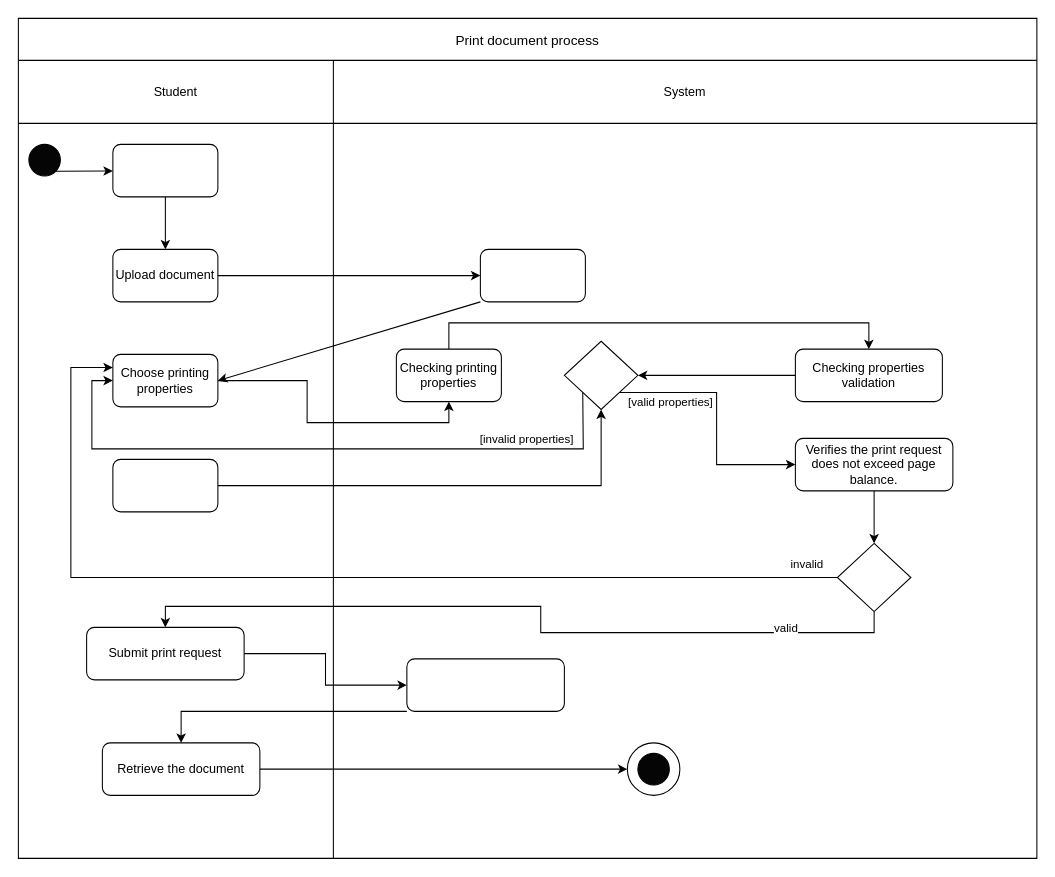
Some shapes in this 1055 by 877 pixel diagram are drawn without their labels. The box of each missing label's shape, as (x1, y1, x2, y2) in pixels:
Choose printer: (112, 458, 218, 512)
Display message: (479, 248, 585, 302)
log in: (112, 143, 218, 197)
Process and print: (406, 658, 564, 711)
